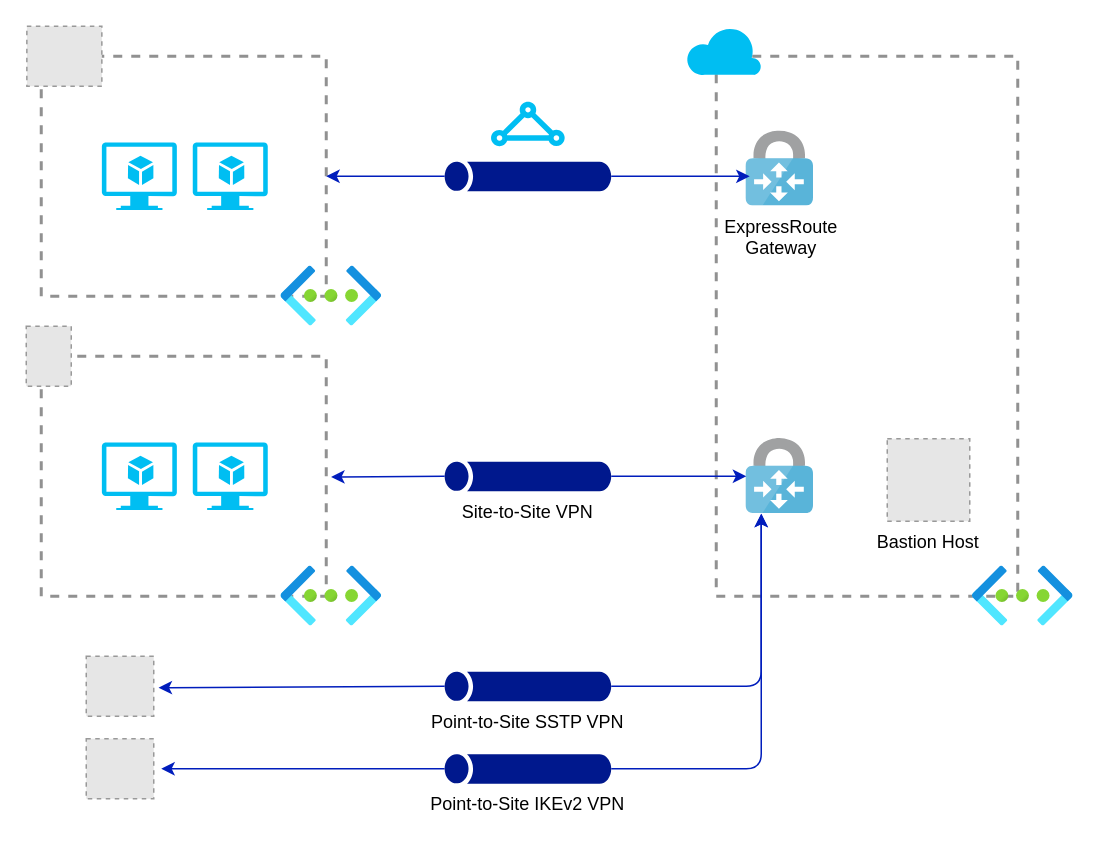
The diagram is 1100 pixels wide and 842 high, and some of its shapes have lost their labels. Grey dashed boxes stand in for pictures. The shapes that lost their labels are listed below. From the top down, each one's centre as x and y in pixels, then its label:
At point (527, 175): "ExpressRoute".
At point (779, 475): "VPN Gateway".
